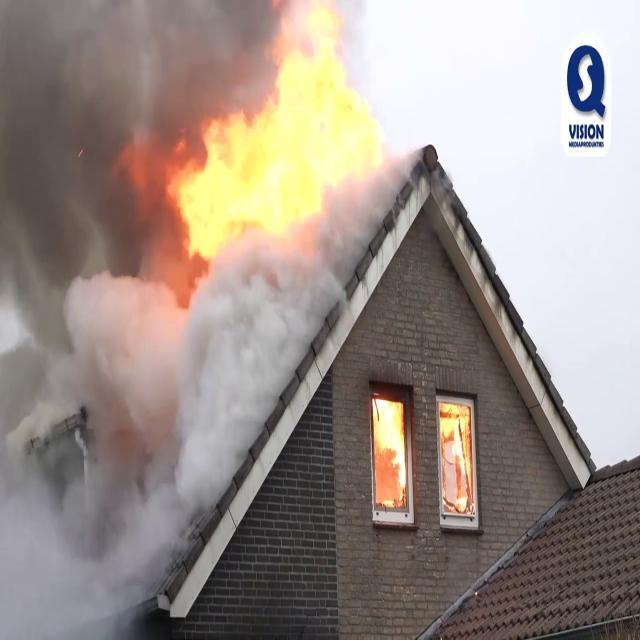Fire: (158, 2, 390, 268), (370, 391, 410, 502), (440, 398, 474, 510)
Smoke: (0, 0, 213, 602)
